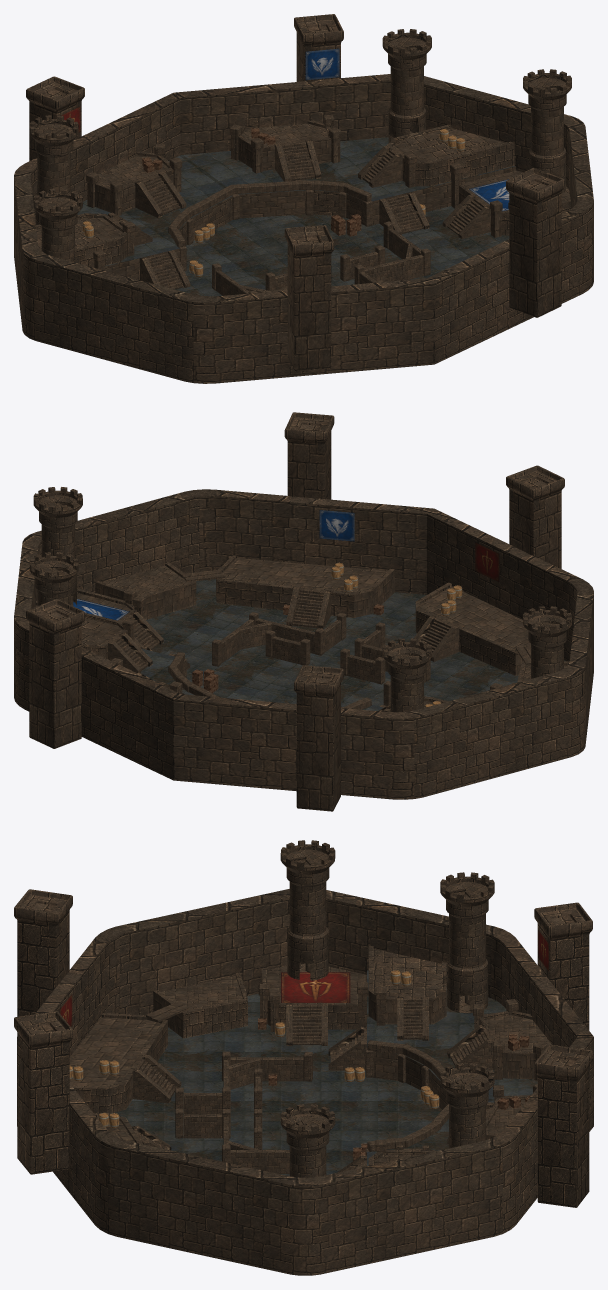
Rendered from arean_war_zone_1787088674706.glb.
3 views of the same model, one above another, from view 1: azimuth 30°, elevation 25°; view 2: azimuth 150°, elevation 25°; view 3: azimuth 270°, elevation 25° (orthographic). The views are drawn at different scales.
Visible parts, largest first — view 1: boundaries, up, ground, Cube.226, Cube.037, Cube.180, tower.226, tower.077, tower.002, tower.001, base.006, Cube.003 (+10 smaller); view 2: boundaries, ground, Cube.225, base.004, Cube.035, base.002, Cube.037, Cube.226, base.005, tower.077, tower.002, tower.001 (+11 smaller); view 3: boundaries, ground, Cube.226, Cube.225, base.002, Cube.037, up, tower.001, tower.002, Cube.035, base.003, Cube.003 (+14 smaller).
Part boxes in pixels (bbox=[...]): boundaries: bbox=[14, 74, 593, 383]; up: bbox=[77, 137, 515, 279]; ground: bbox=[175, 206, 509, 296]; Cube.226: bbox=[506, 168, 564, 317]; Cube.037: bbox=[284, 225, 334, 371]; Cube.180: bbox=[386, 125, 514, 186]; tower.226: bbox=[382, 29, 431, 142]; tower.077: bbox=[523, 69, 571, 193]; tower.002: bbox=[29, 115, 78, 224]; tower.001: bbox=[33, 188, 82, 262]; base.006: bbox=[238, 120, 331, 170]; Cube.003: bbox=[36, 213, 127, 267]; boundaries: bbox=[14, 489, 593, 799]; ground: bbox=[146, 579, 565, 707]; Cube.225: bbox=[26, 599, 84, 748]; base.004: bbox=[216, 555, 394, 617]; Cube.035: bbox=[294, 665, 343, 811]; base.002: bbox=[415, 582, 530, 675]; Cube.037: bbox=[506, 465, 564, 568]; Cube.226: bbox=[284, 412, 334, 499]; base.005: bbox=[95, 562, 196, 619]; tower.077: bbox=[33, 487, 82, 606]; tower.002: bbox=[382, 638, 431, 712]; tower.001: bbox=[523, 606, 571, 678]; boundaries: bbox=[17, 889, 593, 1275]; ground: bbox=[111, 993, 441, 1175]; Cube.226: bbox=[14, 1011, 72, 1174]; Cube.225: bbox=[534, 1044, 592, 1207]; base.002: bbox=[69, 1013, 167, 1113]; Cube.037: bbox=[14, 889, 72, 1016]; up: bbox=[366, 970, 537, 1166]; tower.001: bbox=[280, 840, 335, 980]; tower.002: bbox=[440, 872, 494, 1013]; Cube.035: bbox=[534, 902, 592, 1030]; base.003: bbox=[153, 972, 247, 1038]; Cube.003: bbox=[368, 945, 446, 1024].
Size of what is drawn, in the model's own units: 168 by 43.26 by 138.
6 materials, 6 textured.
